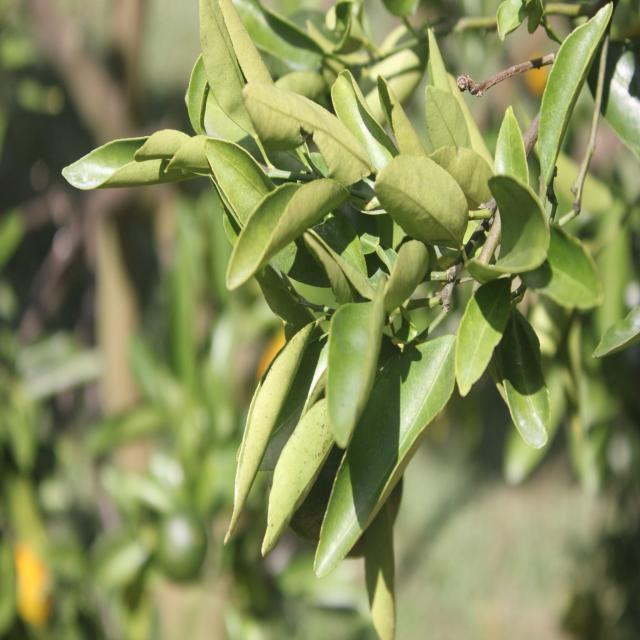melanose: (267, 414, 331, 538)
